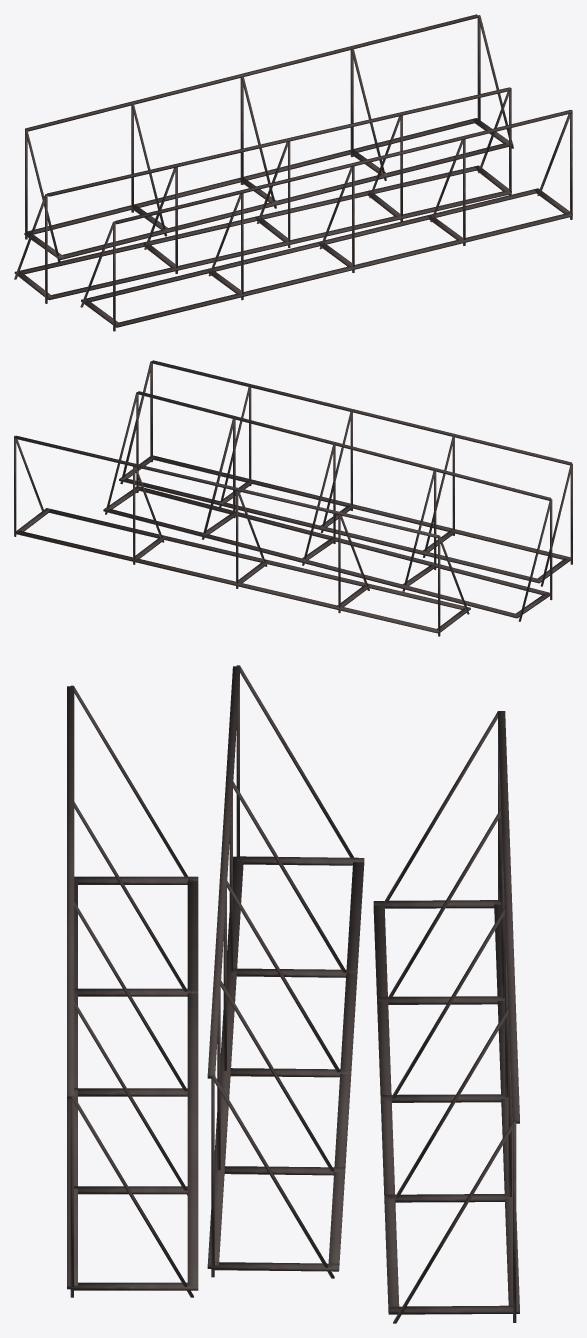
Rendered from Iron_Rode_6.glb.
3 renders of one model, top to bottom at view 1: azimuth 30°, elevation 25°; view 2: azimuth 150°, elevation 25°; view 3: azimuth 270°, elevation 25°, orthographic. The views are drawn at different scales.
Visible parts, largest first — view 1: Iron_Rode_6; view 2: Iron_Rode_6; view 3: Iron_Rode_6.
Boxes of the visible parts, box(x1,y1,x2,y2) form: Iron_Rode_6: box(14, 14, 572, 331); Iron_Rode_6: box(14, 360, 572, 636); Iron_Rode_6: box(67, 665, 519, 1323).
Size of the model in its own units: 12.56 by 2.57 by 5.25.
Materials: 1 (1 with a texture image).
